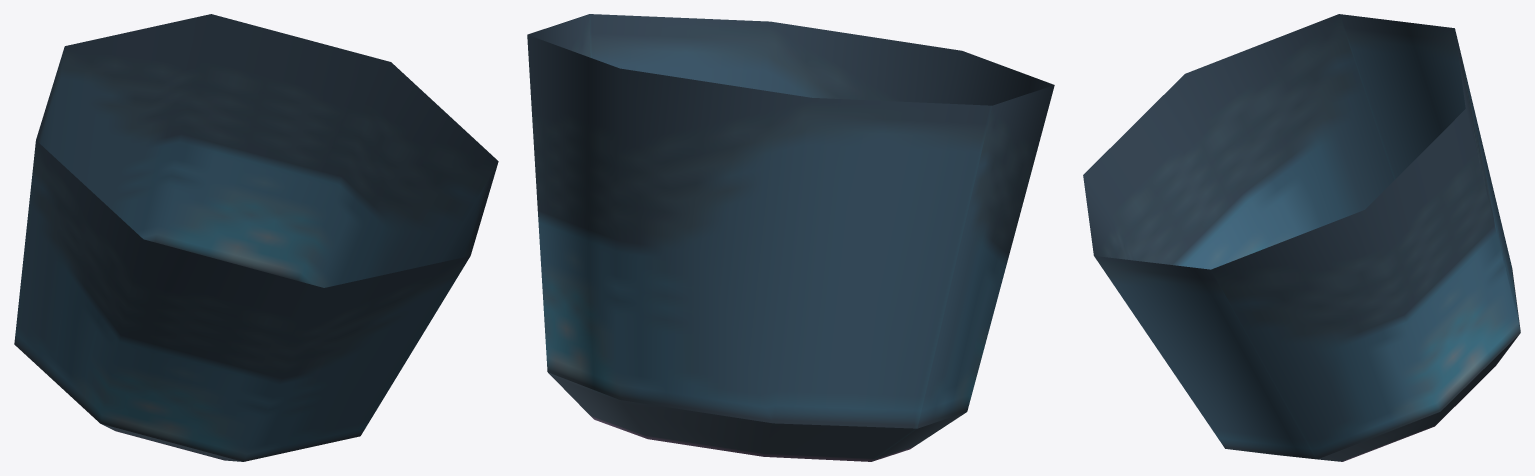
Rendered from megamanX_buster.obj.
3 renders of one model, left to right at view 1: azimuth 30°, elevation 25°; view 2: azimuth 150°, elevation 25°; view 3: azimuth 270°, elevation 25°, orthographic. The views are drawn at different scales.
Visible parts, largest first — view 1: Pierna_izquierda023, Pierna_izquierda024; view 2: Pierna_izquierda023, Pierna_izquierda024; view 3: Pierna_izquierda023, Pierna_izquierda024.
Boxes of the visible parts, box(x1,y1,x2,y2) form: Pierna_izquierda023: box(14, 14, 498, 461); Pierna_izquierda024: box(101, 424, 242, 461); Pierna_izquierda023: box(527, 14, 1054, 428); Pierna_izquierda024: box(548, 372, 966, 461); Pierna_izquierda023: box(1083, 14, 1520, 459); Pierna_izquierda024: box(1233, 333, 1520, 461).
Size of the model in its own units: 0.917 by 0.804 by 0.9028.
